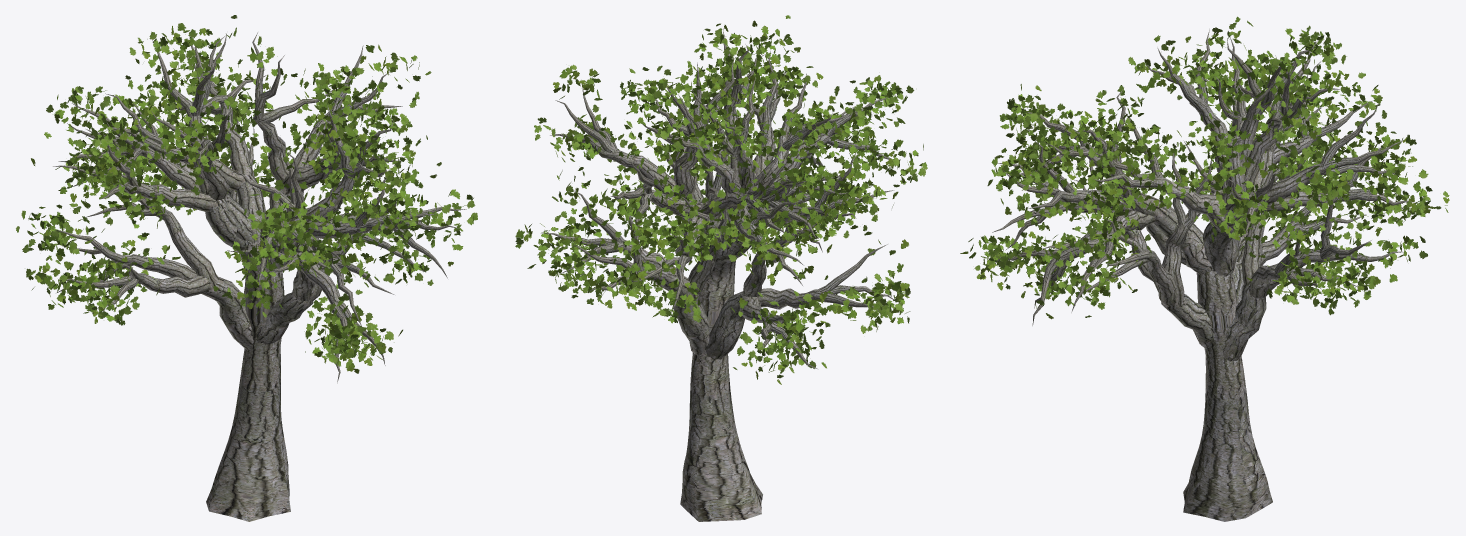
The picture shows the model from 3 angles, left to right: view 1: azimuth 30°, elevation 25°; view 2: azimuth 150°, elevation 25°; view 3: azimuth 270°, elevation 25°; orthographic projection. The views are drawn at different scales.
Parts seen in each view (by area): view 1: Oak foliage cards, Oak_EasyTree_V017_Proof; view 2: Oak foliage cards, Oak_EasyTree_V017_Proof; view 3: Oak foliage cards, Oak_EasyTree_V017_Proof.
Part boxes in pixels (x1,y1,x2,y2): Oak foliage cards: (16,15,477,373); Oak_EasyTree_V017_Proof: (53,32,466,521); Oak foliage cards: (515,15,927,384); Oak_EasyTree_V017_Proof: (541,28,895,521); Oak foliage cards: (960,16,1449,319); Oak_EasyTree_V017_Proof: (992,29,1416,521).
Size of the model in its own units: 6.92 by 7.76 by 7.61.
Materials: 2 (2 with a texture image).
